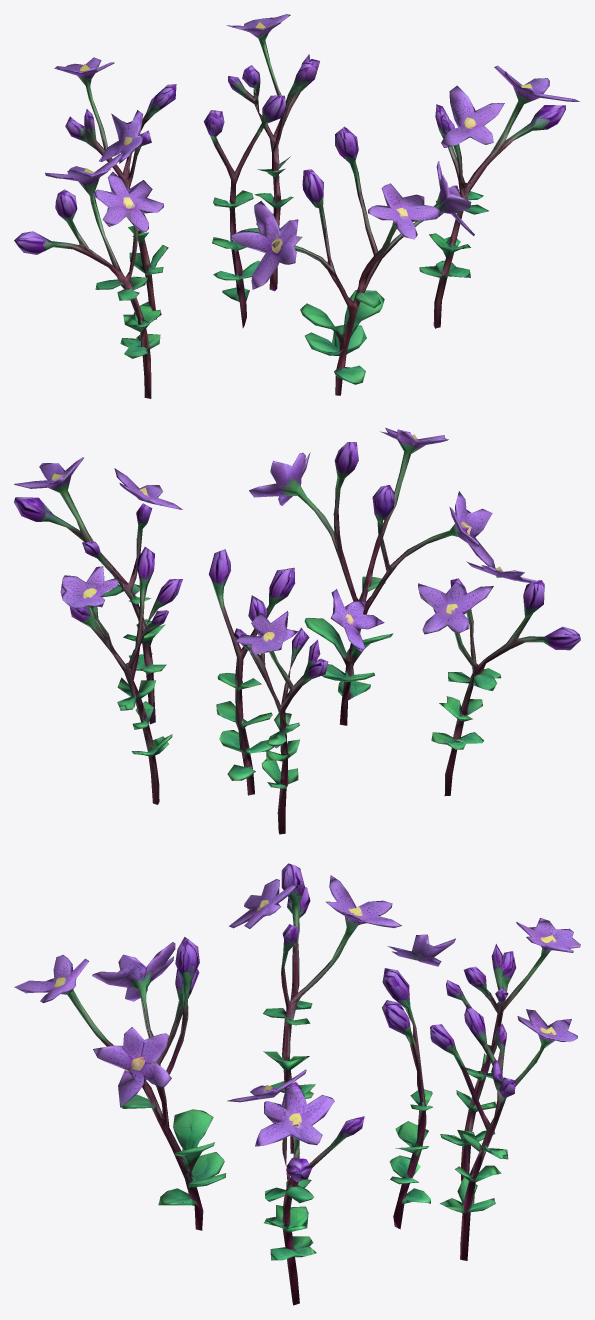
3 renders of one model, top to bottom at view 1: azimuth 30°, elevation 25°; view 2: azimuth 150°, elevation 25°; view 3: azimuth 270°, elevation 25°, orthographic. The views are drawn at different scales.
Visible parts, largest first — view 1: Mesh_0; view 2: Mesh_0; view 3: Mesh_0.
Part boxes in pixels (x1,y1,x2,y2): Mesh_0: (14,14,579,398); Mesh_0: (14,427,580,834); Mesh_0: (14,863,580,1305).
Size of the model in its own units: 1.92 by 0.9024 by 1.6.
Materials: 1 (1 with a texture image).
